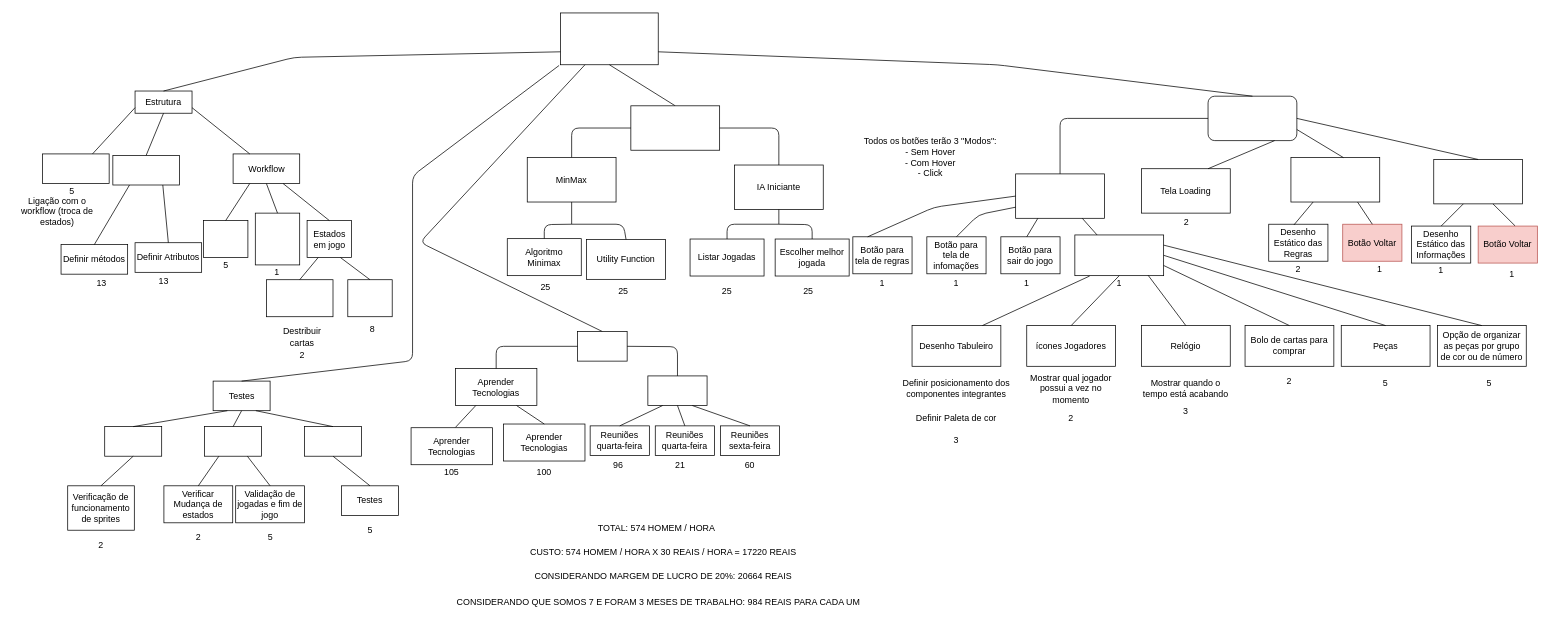
This 1550x627 diagram has some shape labels left out. The shapes that lost their labels are listed below. From the top down, each one's box as (x1, y1, x2, y2) in pixels, then its label:
(560, 12, 658, 65): RumikUFF
(630, 105, 720, 150): IA
(1207, 95, 1297, 141): Layout
(42, 153, 109, 184): Tratar eventos interface
(112, 155, 179, 185): Criar classes do jogo
(1290, 157, 1380, 202): Tela Regras
(1433, 159, 1523, 204): Tela Informações
(1015, 173, 1104, 218): Tela Menu Prncipal
(203, 220, 248, 258): Definir estados do jogo
(255, 212, 300, 265): Definir transição de estados
(1074, 234, 1164, 276): Botão Jogar
(266, 279, 333, 317): Setar estado inicial do jogo
(347, 279, 392, 317): Validar jogadas / Venceu
(577, 331, 627, 361): Gestão
(647, 375, 707, 406): Reuniões pós aulas
(104, 426, 162, 456): Teste de interface
(204, 426, 262, 456): Teste de estrutura
(304, 426, 361, 456): Teste de IA
